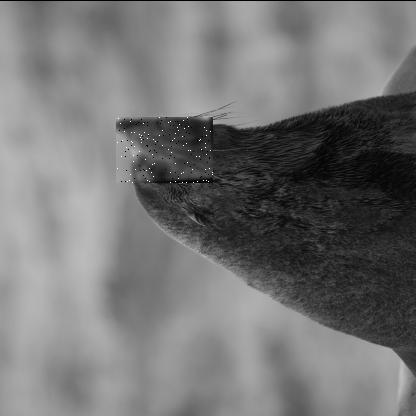face: (116, 115, 214, 182)
